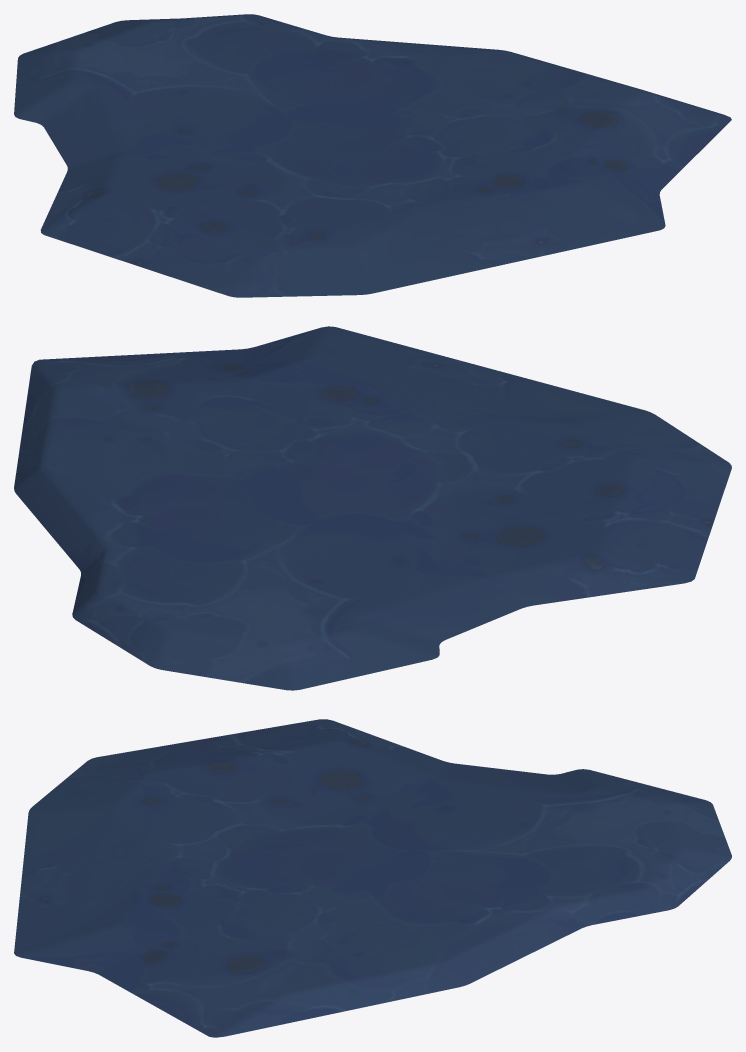
File: SM_Discord_Terrain_Chunk_05.fbx
3 views of the same model, one above another, from view 1: azimuth 30°, elevation 25°; view 2: azimuth 150°, elevation 25°; view 3: azimuth 270°, elevation 25° (orthographic). The views are drawn at different scales.
Visible parts, largest first — view 1: SM_Discord_Terrain_Chunk_05; view 2: SM_Discord_Terrain_Chunk_05; view 3: SM_Discord_Terrain_Chunk_05.
Part boxes in pixels (left/top/right/bottom): SM_Discord_Terrain_Chunk_05: left=14, top=14, right=731, bottom=297; SM_Discord_Terrain_Chunk_05: left=14, top=326, right=731, bottom=690; SM_Discord_Terrain_Chunk_05: left=14, top=719, right=731, bottom=1037.
Size of the model in its own units: 711 by 16.69 by 677.
